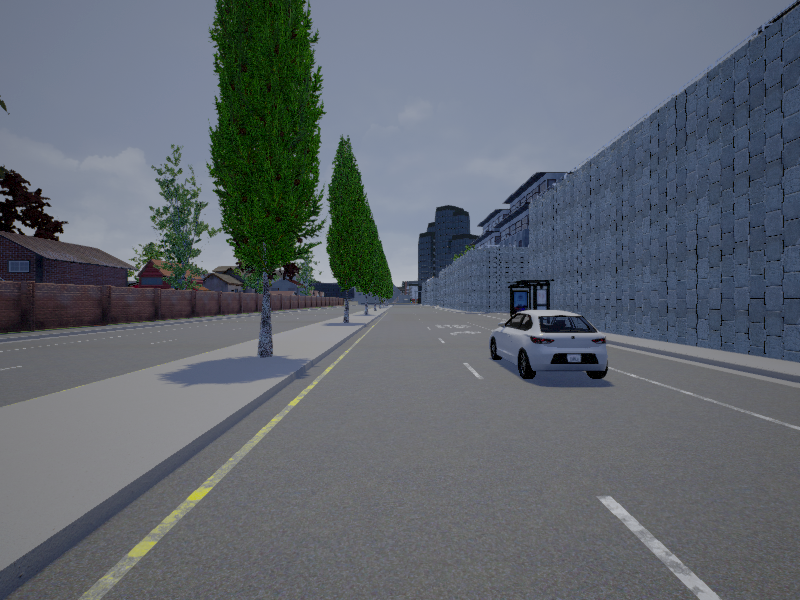Benign: (491, 308, 610, 380)
